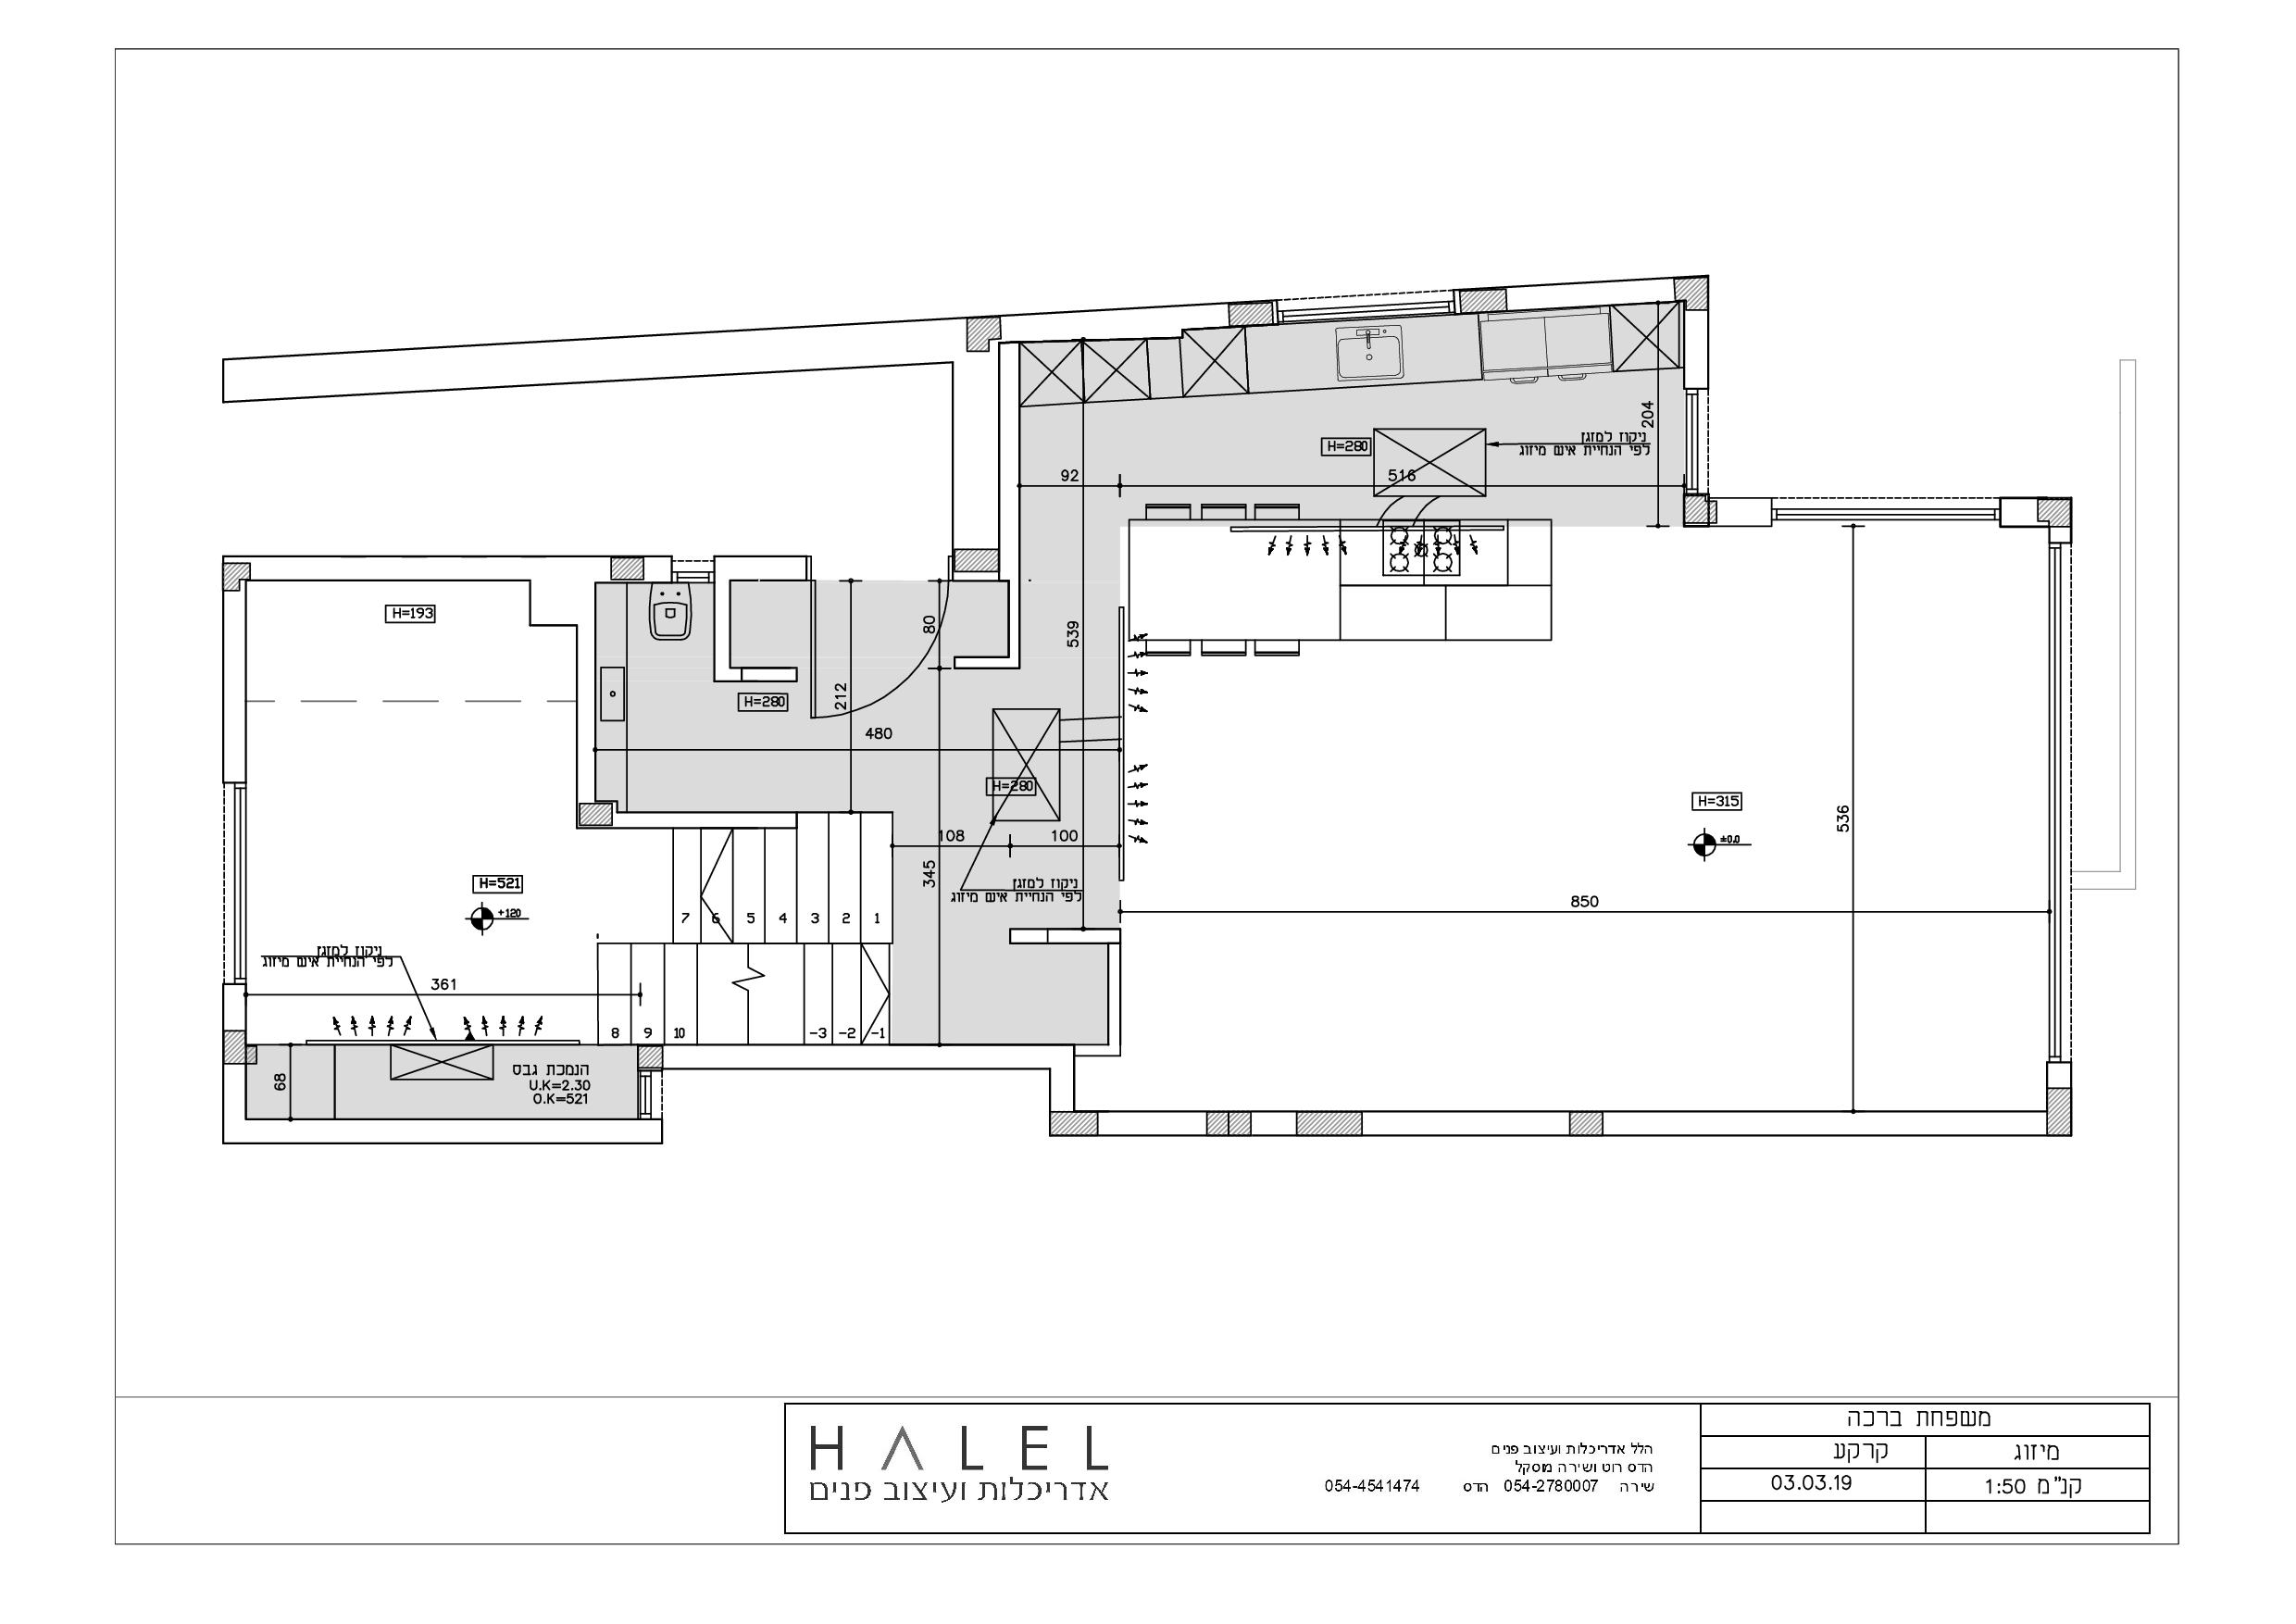door: (803, 598, 947, 724)
window: (214, 780, 260, 986), (636, 1067, 666, 1120)
